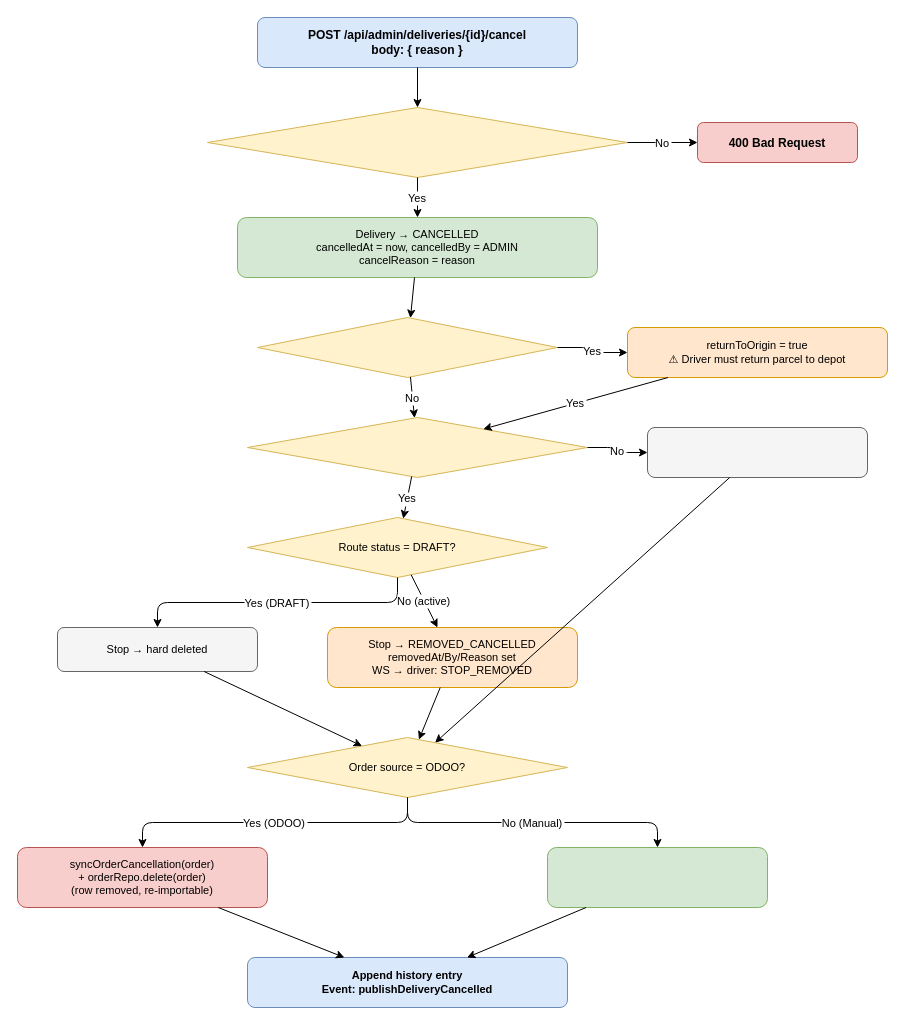
This 905x1025 diagram has some shape labels left out. Here are the shapes that lost their labels. From the top down, the box of each, then its label:
(206, 106, 628, 178): Status in [UNSCHEDULED, SCHEDULED, PICKED_UP]?
(256, 316, 558, 378): Was PICKED_UP?
(246, 416, 588, 478): Associated RouteStop exists?
(646, 426, 868, 478): (No stop — UNSCHEDULED case) Continue to order handling
(546, 846, 768, 908): order.status → CANCELLED orderRepo.save(order)
